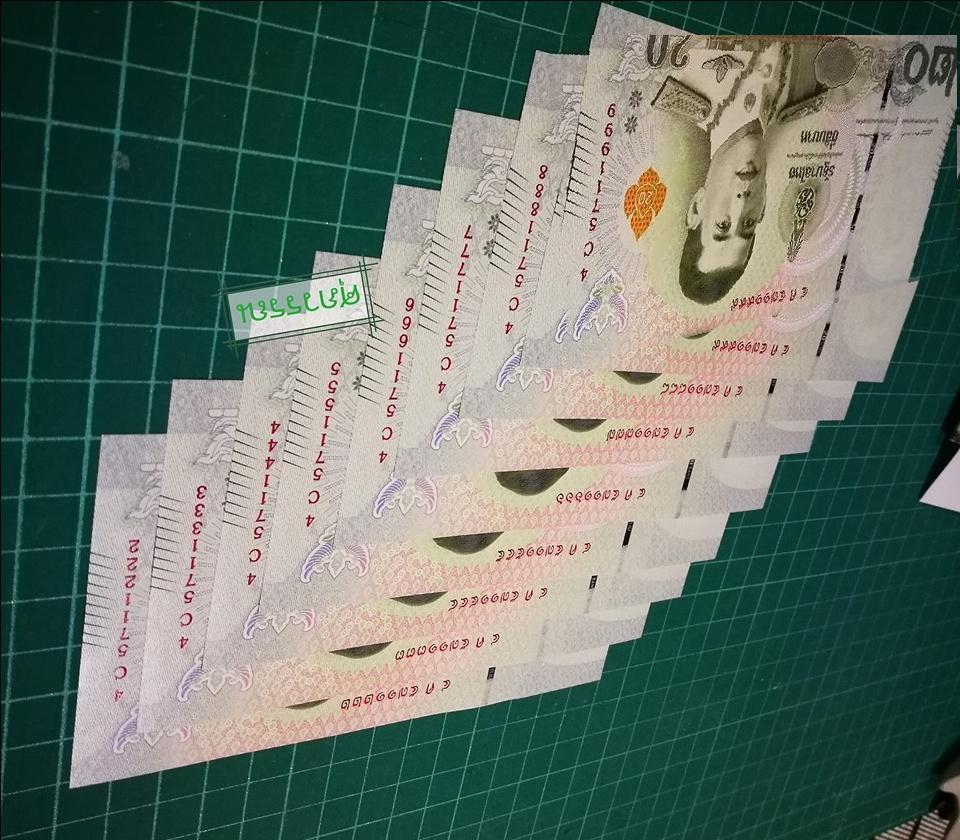20BahtTai: (549, 35, 957, 366)
